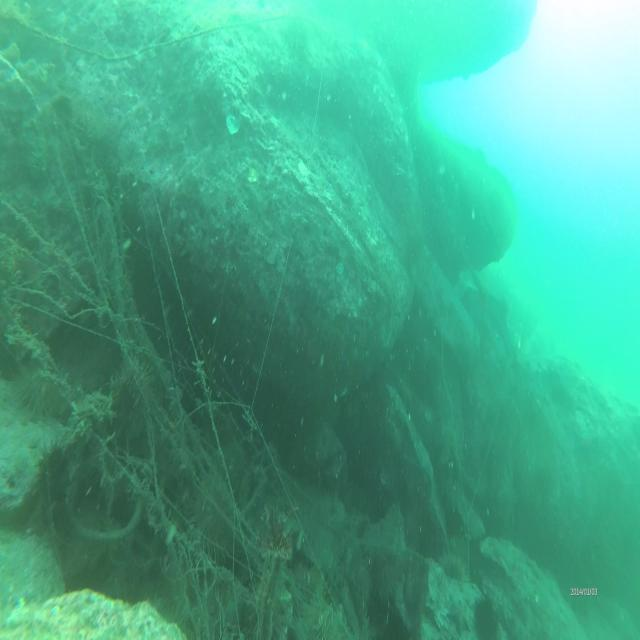echinus: (187, 459, 240, 565), (110, 351, 152, 422), (437, 542, 472, 588), (374, 554, 400, 608), (473, 595, 502, 640), (350, 550, 372, 608)
holothurian: (32, 432, 66, 518), (17, 368, 58, 418)
starfish: (444, 596, 474, 635)
